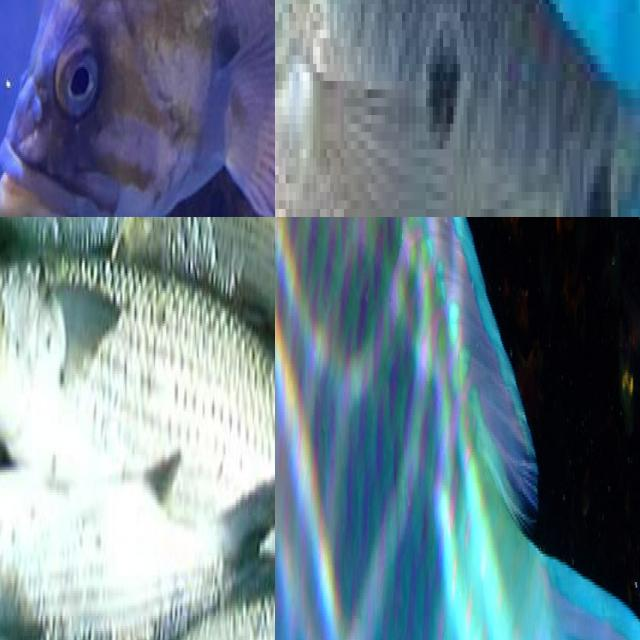fish: (275, 217, 640, 640), (275, 0, 614, 217), (0, 217, 275, 442), (0, 0, 275, 217)
